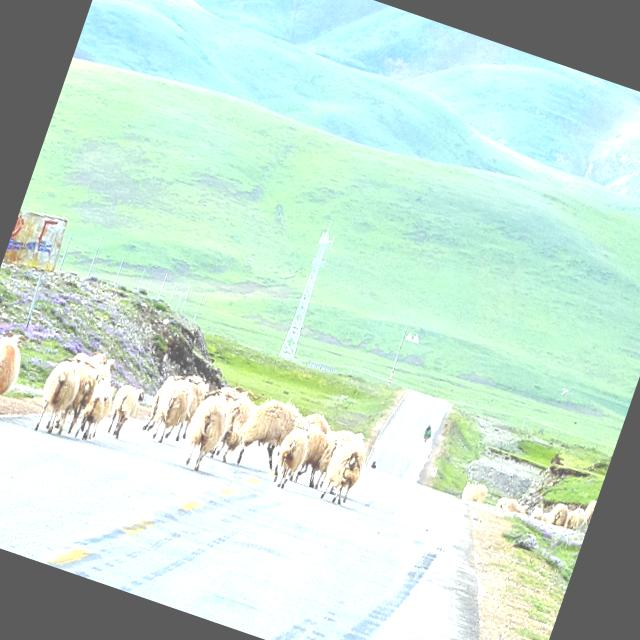Vehicle: (421, 428, 432, 442)
